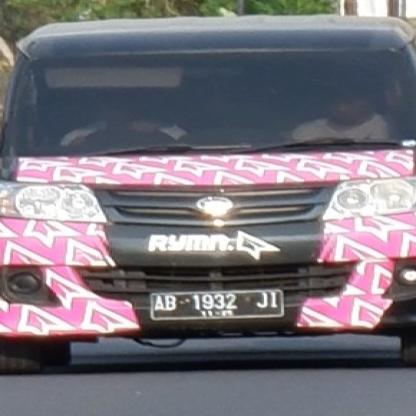Plat-Nomor: (144, 286, 288, 324)
